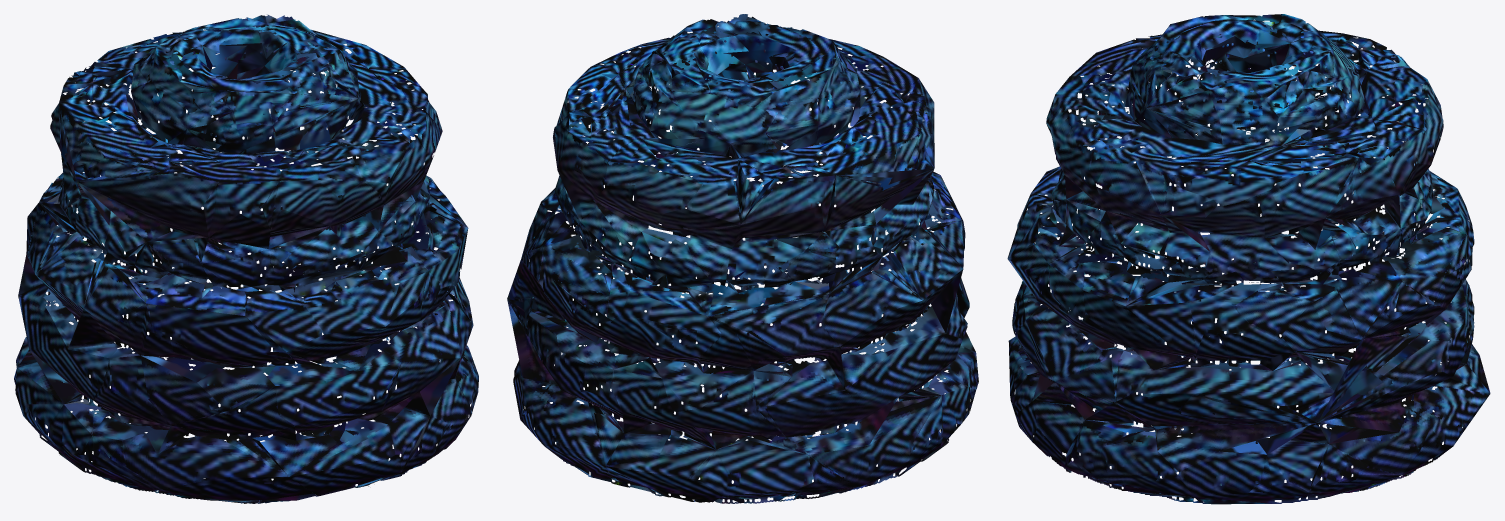
Rendered from Rope.glb.
3 renders of one model, left to right at view 1: azimuth 30°, elevation 25°; view 2: azimuth 150°, elevation 25°; view 3: azimuth 270°, elevation 25°, orthographic. The views are drawn at different scales.
Parts seen in each view (by area): view 1: temp_mesh.ply; view 2: temp_mesh.ply; view 3: temp_mesh.ply.
Boxes of the visible parts, x1,y1,x2,y2 form: temp_mesh.ply: (14, 14, 478, 503); temp_mesh.ply: (507, 14, 978, 503); temp_mesh.ply: (1007, 14, 1490, 504).
Size of the model in its own units: 0.2925 by 0.2564 by 0.3.
Materials: 1 (1 with a texture image).
